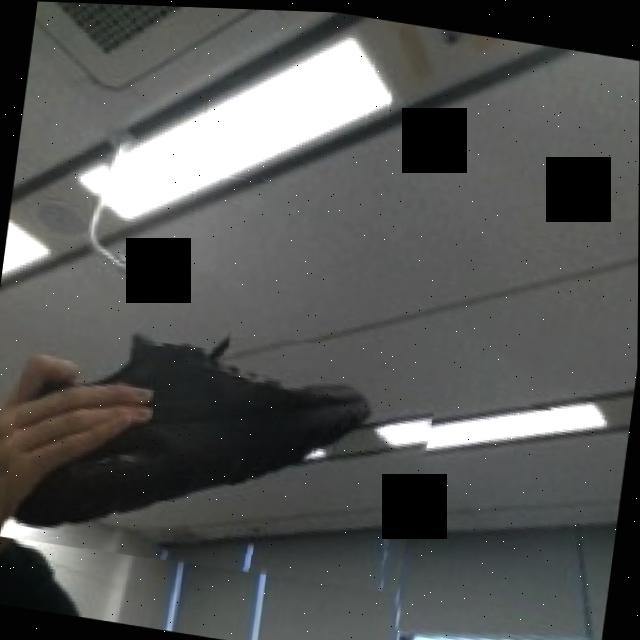shoe: (0, 297, 445, 600)
